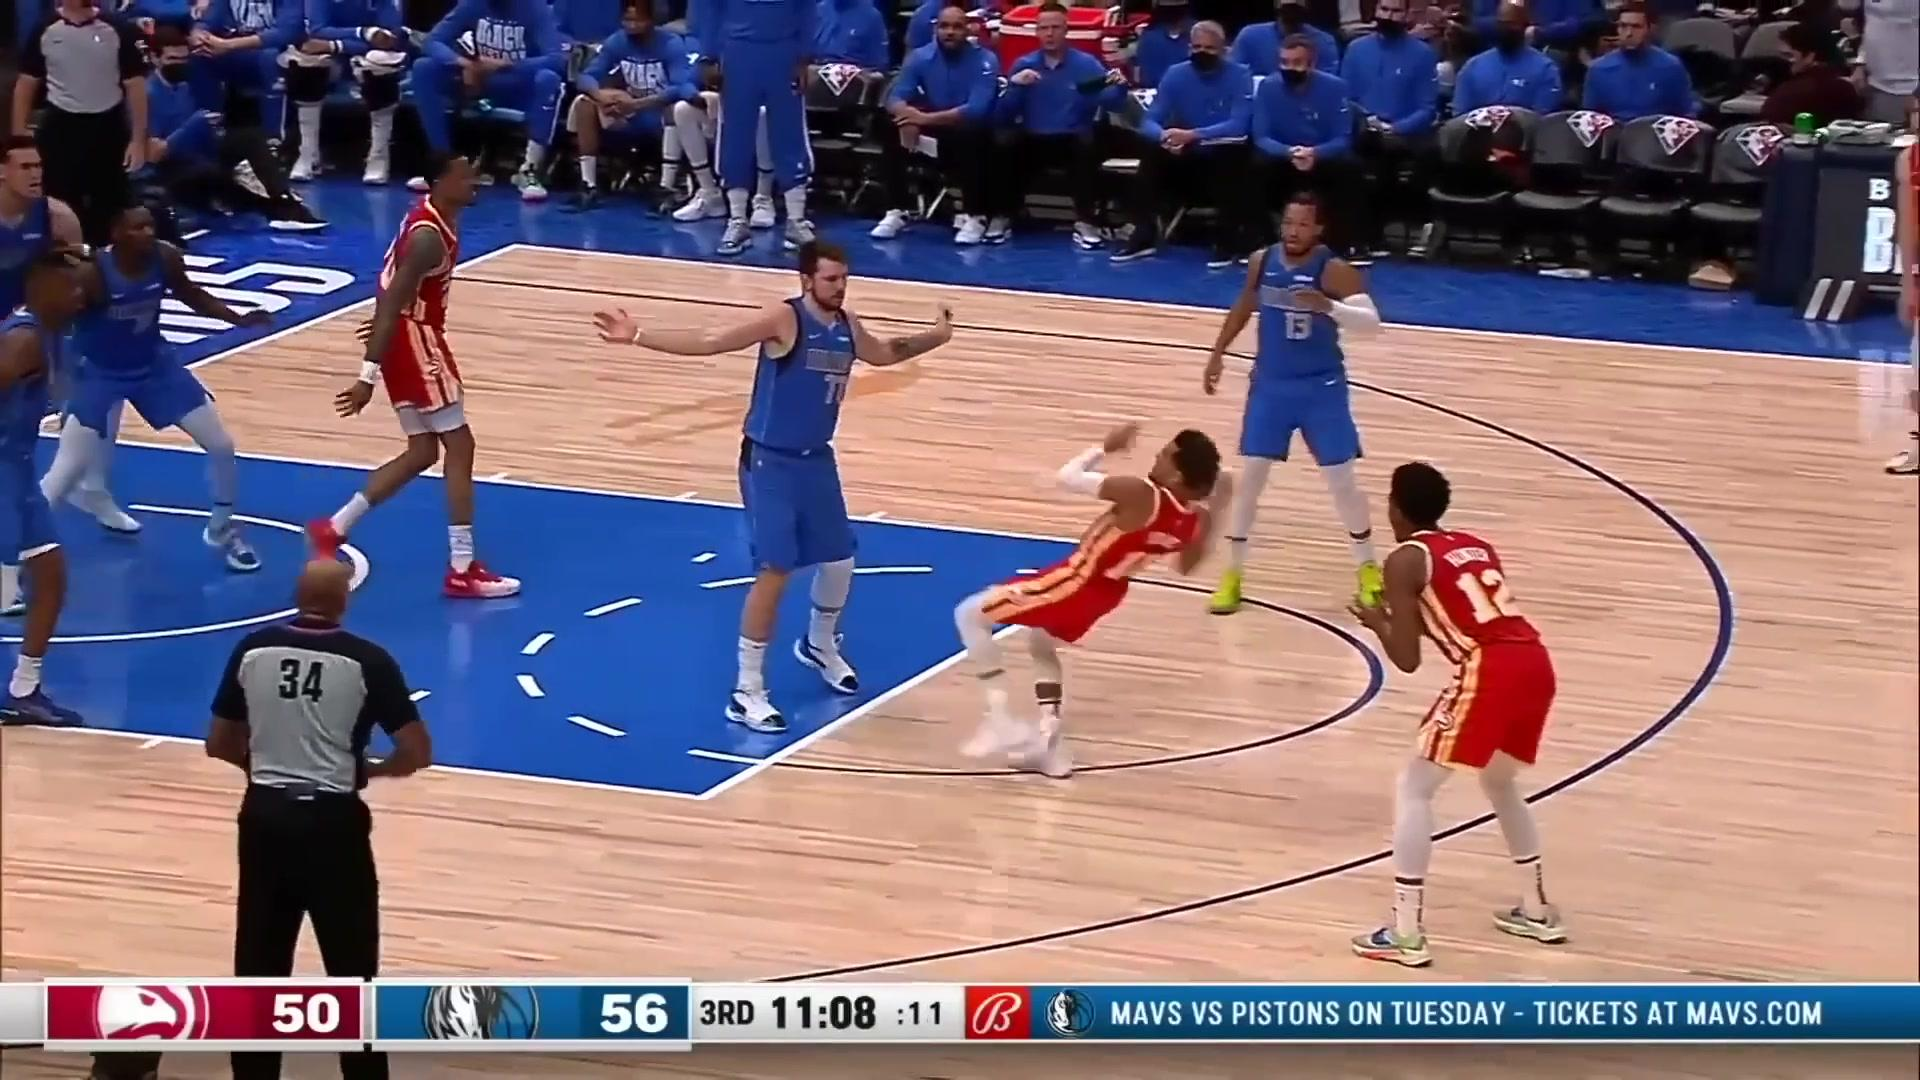no_foul: (604, 241, 1236, 752)
